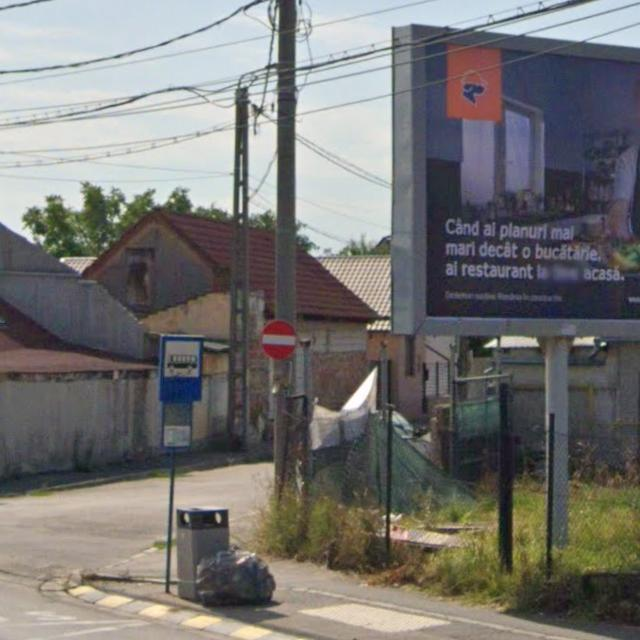forb_ahead: (260, 320, 296, 358)
info_bus_station: (159, 336, 204, 402)
